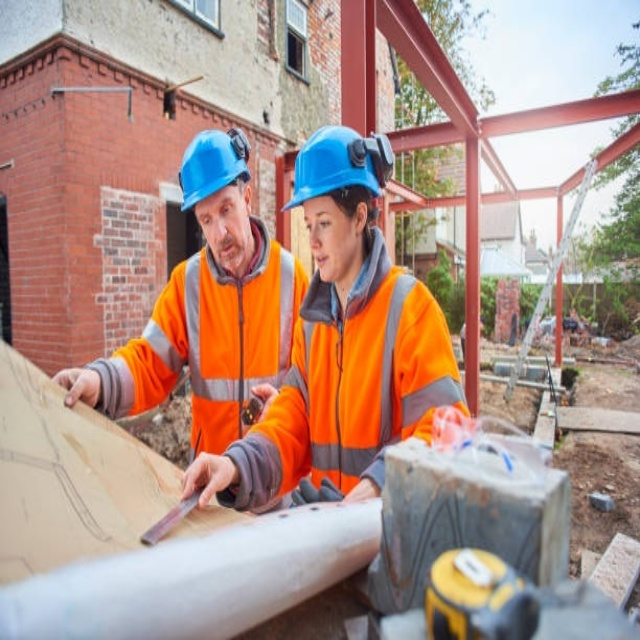Sin_gafas: (197, 196, 235, 231), (301, 205, 334, 235)
Sin_guantes: (179, 451, 237, 509), (58, 366, 101, 409), (246, 383, 281, 427)
Sin_mascara: (211, 238, 243, 265), (312, 249, 338, 279)
